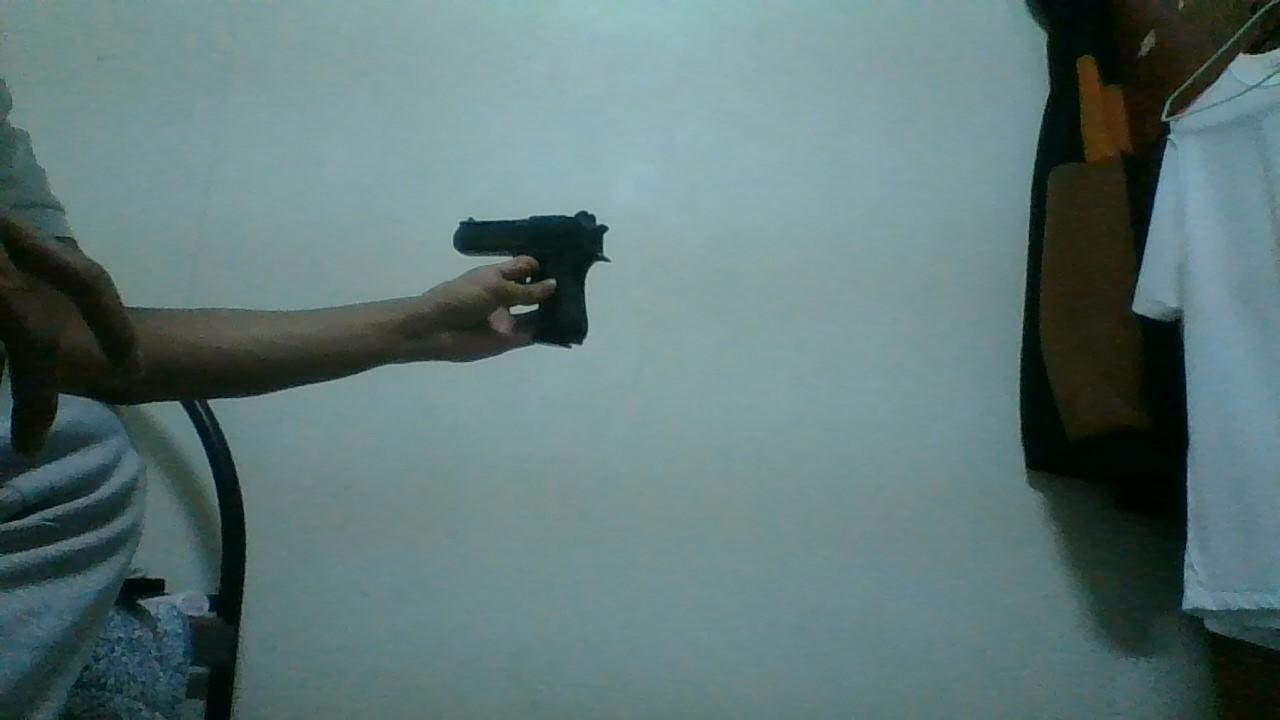weapon: (453, 207, 617, 348)
